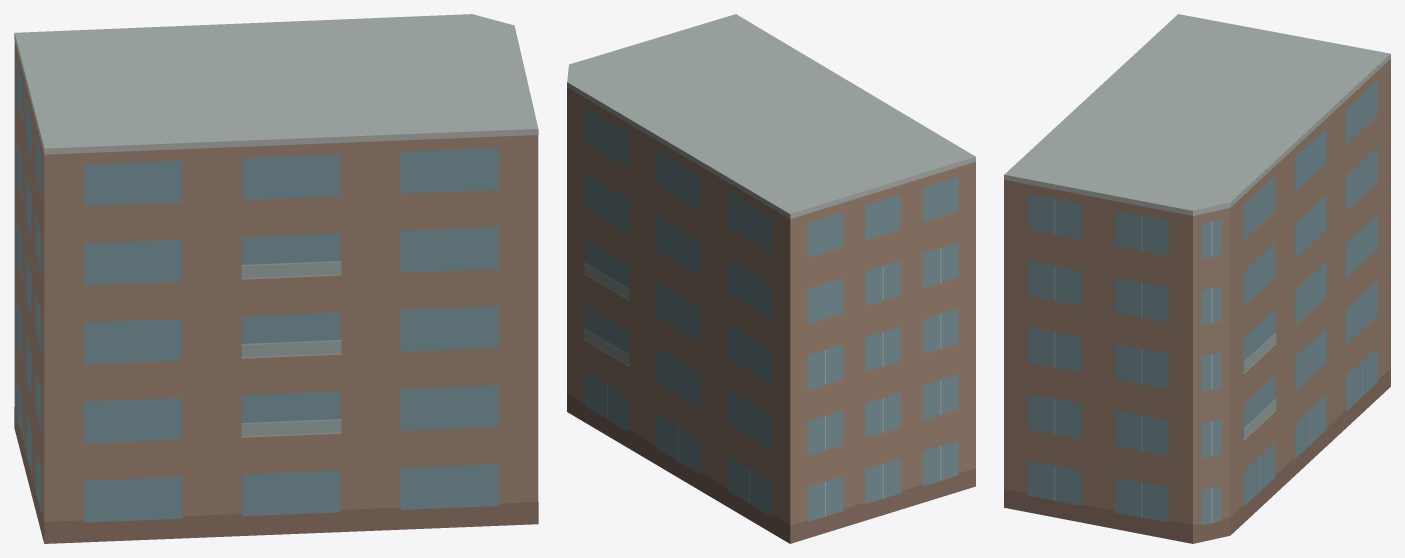
The model's file is survey-upis-32869401.glb.
3 renders of one model, left to right at view 1: azimuth 30°, elevation 25°; view 2: azimuth 150°, elevation 25°; view 3: azimuth 270°, elevation 25°, orthographic. The views are drawn at different scales.
Parts seen in each view (by area): view 1: survey-upis-32869401.tmp; view 2: survey-upis-32869401.tmp; view 3: survey-upis-32869401.tmp.
Boxes of the visible parts, <box> form: survey-upis-32869401.tmp: <box>14,14,538,543</box>; survey-upis-32869401.tmp: <box>567,14,975,543</box>; survey-upis-32869401.tmp: <box>1004,14,1390,543</box>.
Size of the model in its own units: 20.17 by 15.9 by 16.75.
